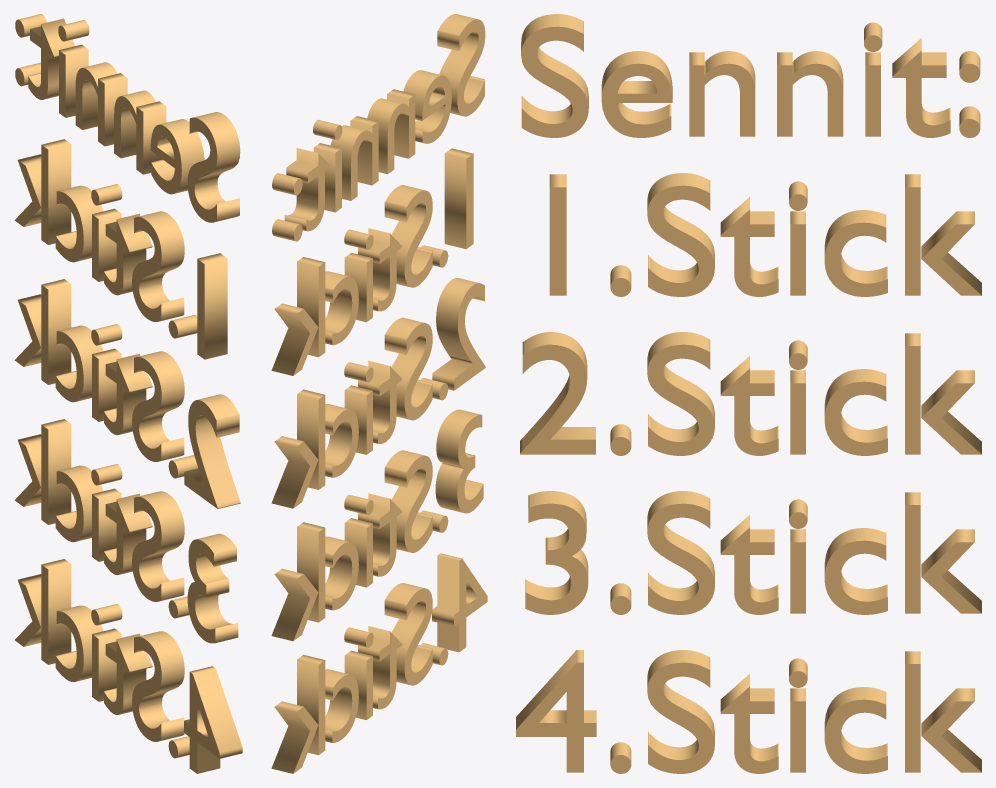
File: fifth.fbx
The picture shows the model from 3 angles, left to right: view 1: azimuth 30°, elevation 25°; view 2: azimuth 150°, elevation 25°; view 3: azimuth 270°, elevation 25°; orthographic projection. The views are drawn at different scales.
Parts seen in each view (by area): view 1: Text; view 2: Text; view 3: Text.
Boxes of the visible parts, box(x1,y1,x2,y2) form: Text: box(14, 14, 242, 773); Text: box(271, 14, 487, 773); Text: box(516, 14, 981, 773).
Size of the model in its own units: 17.2 by 470 by 266.
